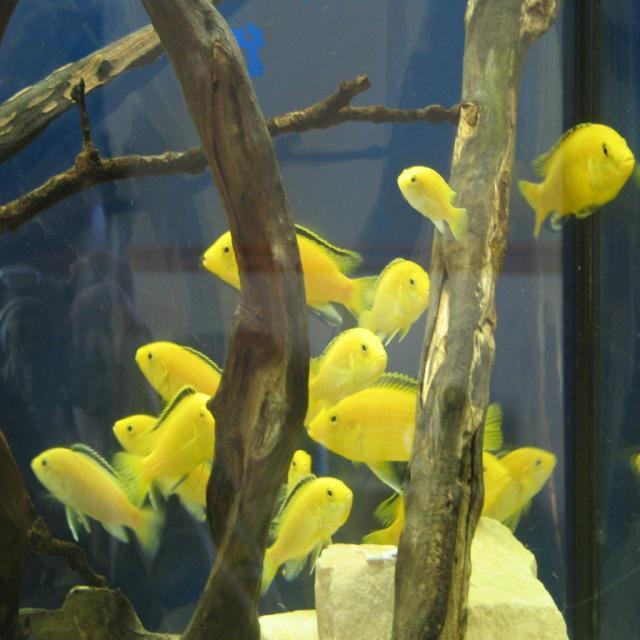YellowCichlid: (198, 219, 364, 318), (510, 114, 631, 241), (23, 447, 145, 552), (304, 392, 447, 477), (367, 253, 438, 338), (392, 164, 468, 242), (132, 338, 216, 399), (166, 404, 214, 506), (306, 333, 391, 389), (512, 436, 560, 520), (107, 407, 160, 449), (484, 450, 506, 514), (290, 444, 312, 477)
